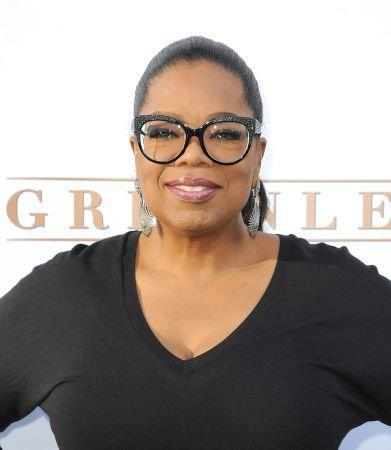Sober: (139, 70, 253, 223)
